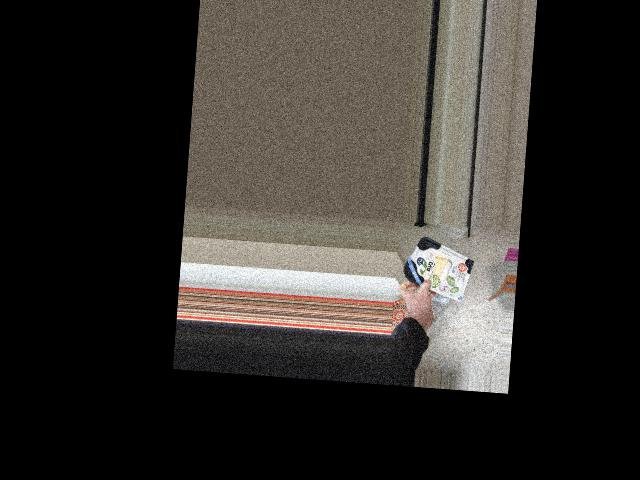cheese: (400, 239, 474, 292)
